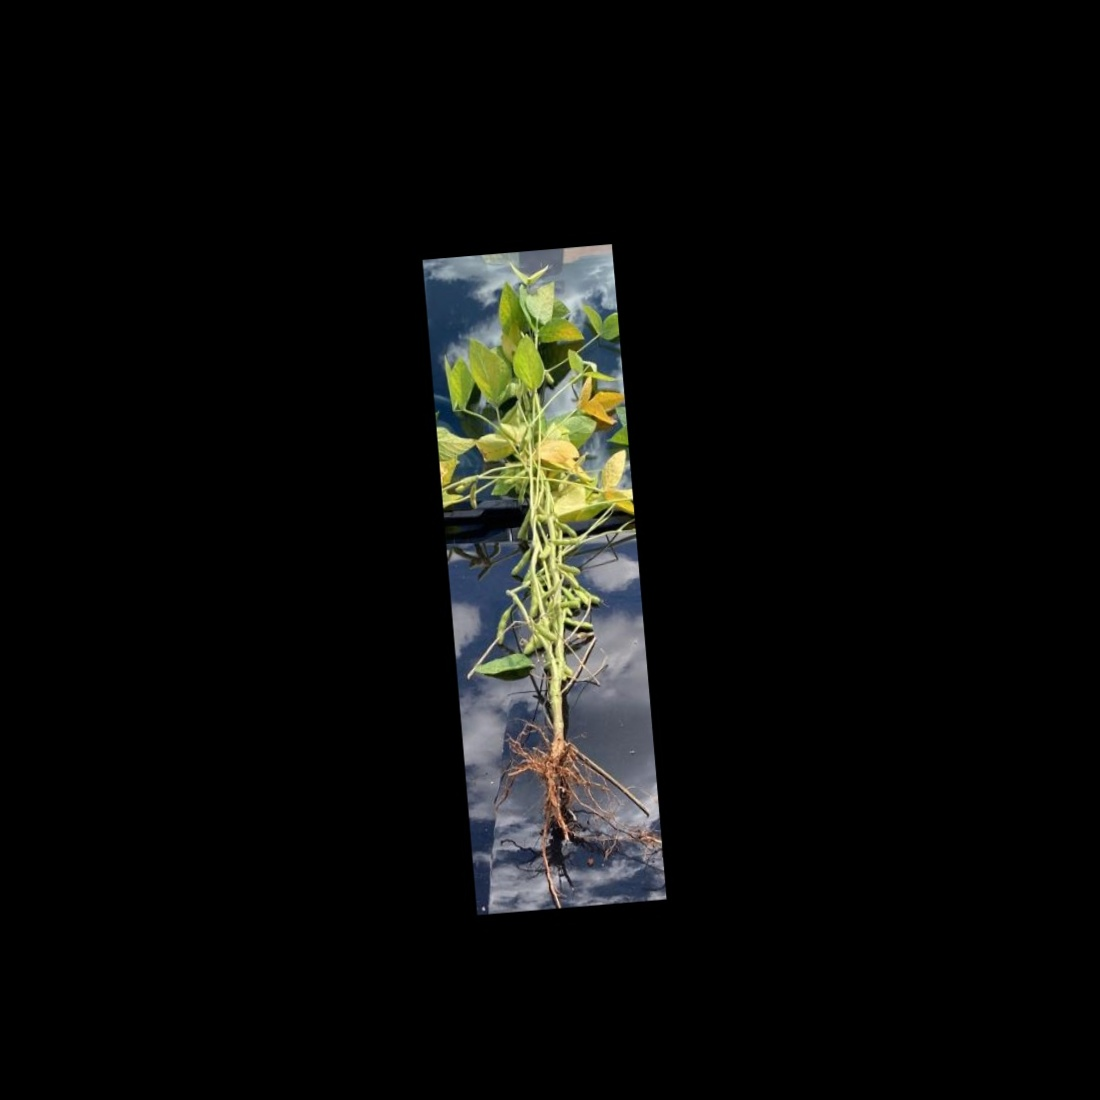pod: (491, 601, 516, 650), (507, 545, 534, 579), (511, 509, 533, 544), (561, 613, 594, 630), (554, 517, 578, 539), (550, 535, 581, 547), (555, 597, 581, 611)
soy: (430, 255, 651, 869)
